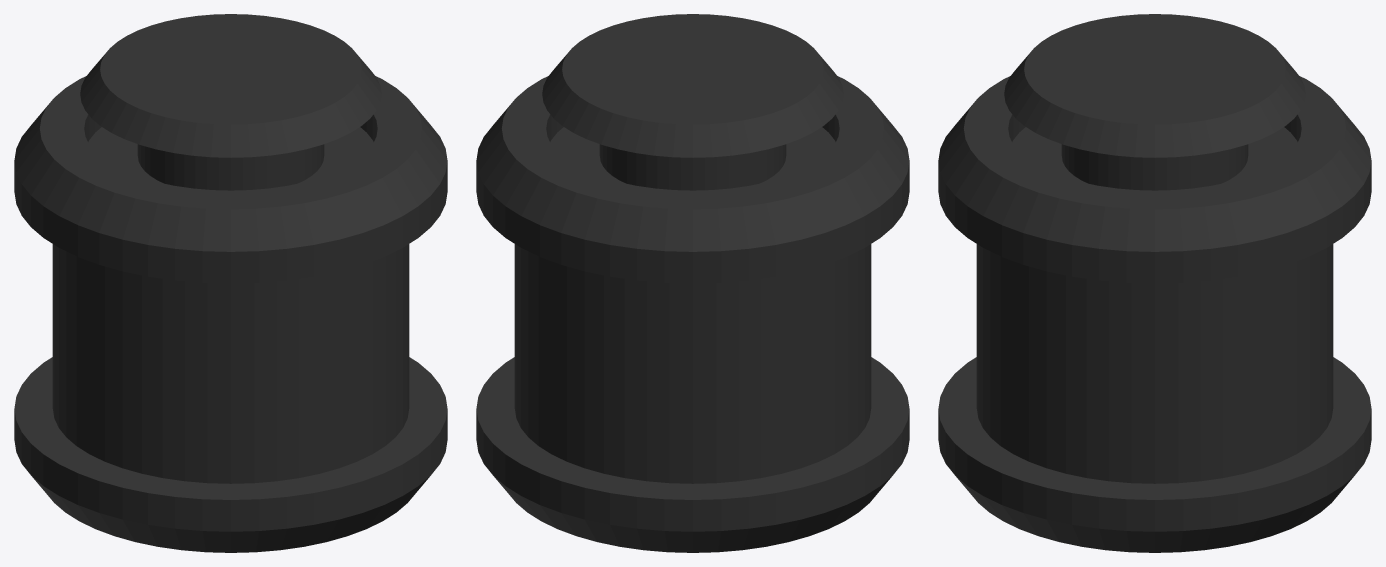
The model's file is rotor.fbx.
The picture shows the model from 3 angles, left to right: view 1: azimuth 30°, elevation 25°; view 2: azimuth 150°, elevation 25°; view 3: azimuth 270°, elevation 25°; orthographic projection.
Visible parts, largest first — view 1: Rotor; view 2: Rotor; view 3: Rotor.
Boxes of the visible parts, <box> form: Rotor: <box>14,14,447,552</box>; Rotor: <box>476,14,909,552</box>; Rotor: <box>938,14,1371,552</box>.
Size of the model in its own units: 200 by 205 by 200.
